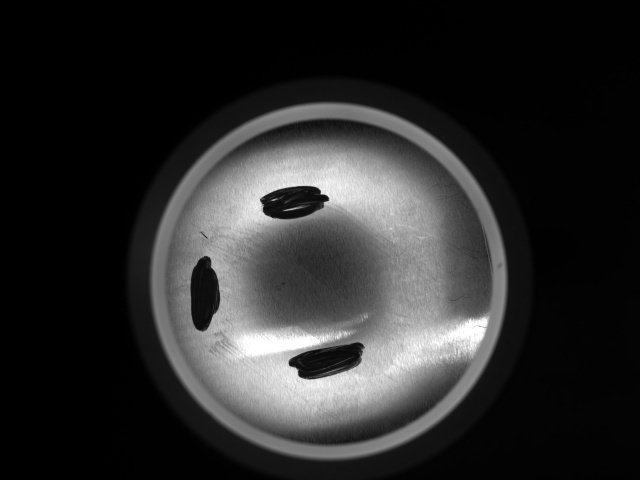zang_wu: (285, 341, 367, 380), (189, 255, 225, 333), (258, 185, 330, 222)
